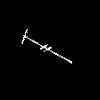treble_crochet: (22, 30, 71, 62)
